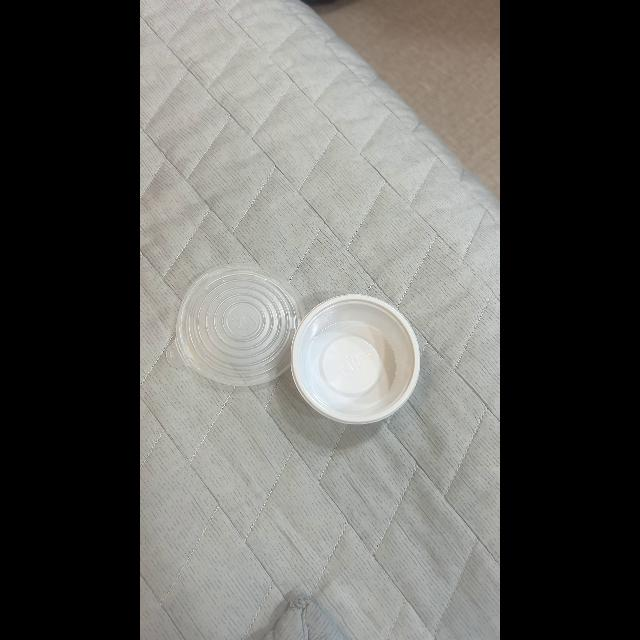clean: (178, 268, 306, 390), (295, 301, 415, 419)
